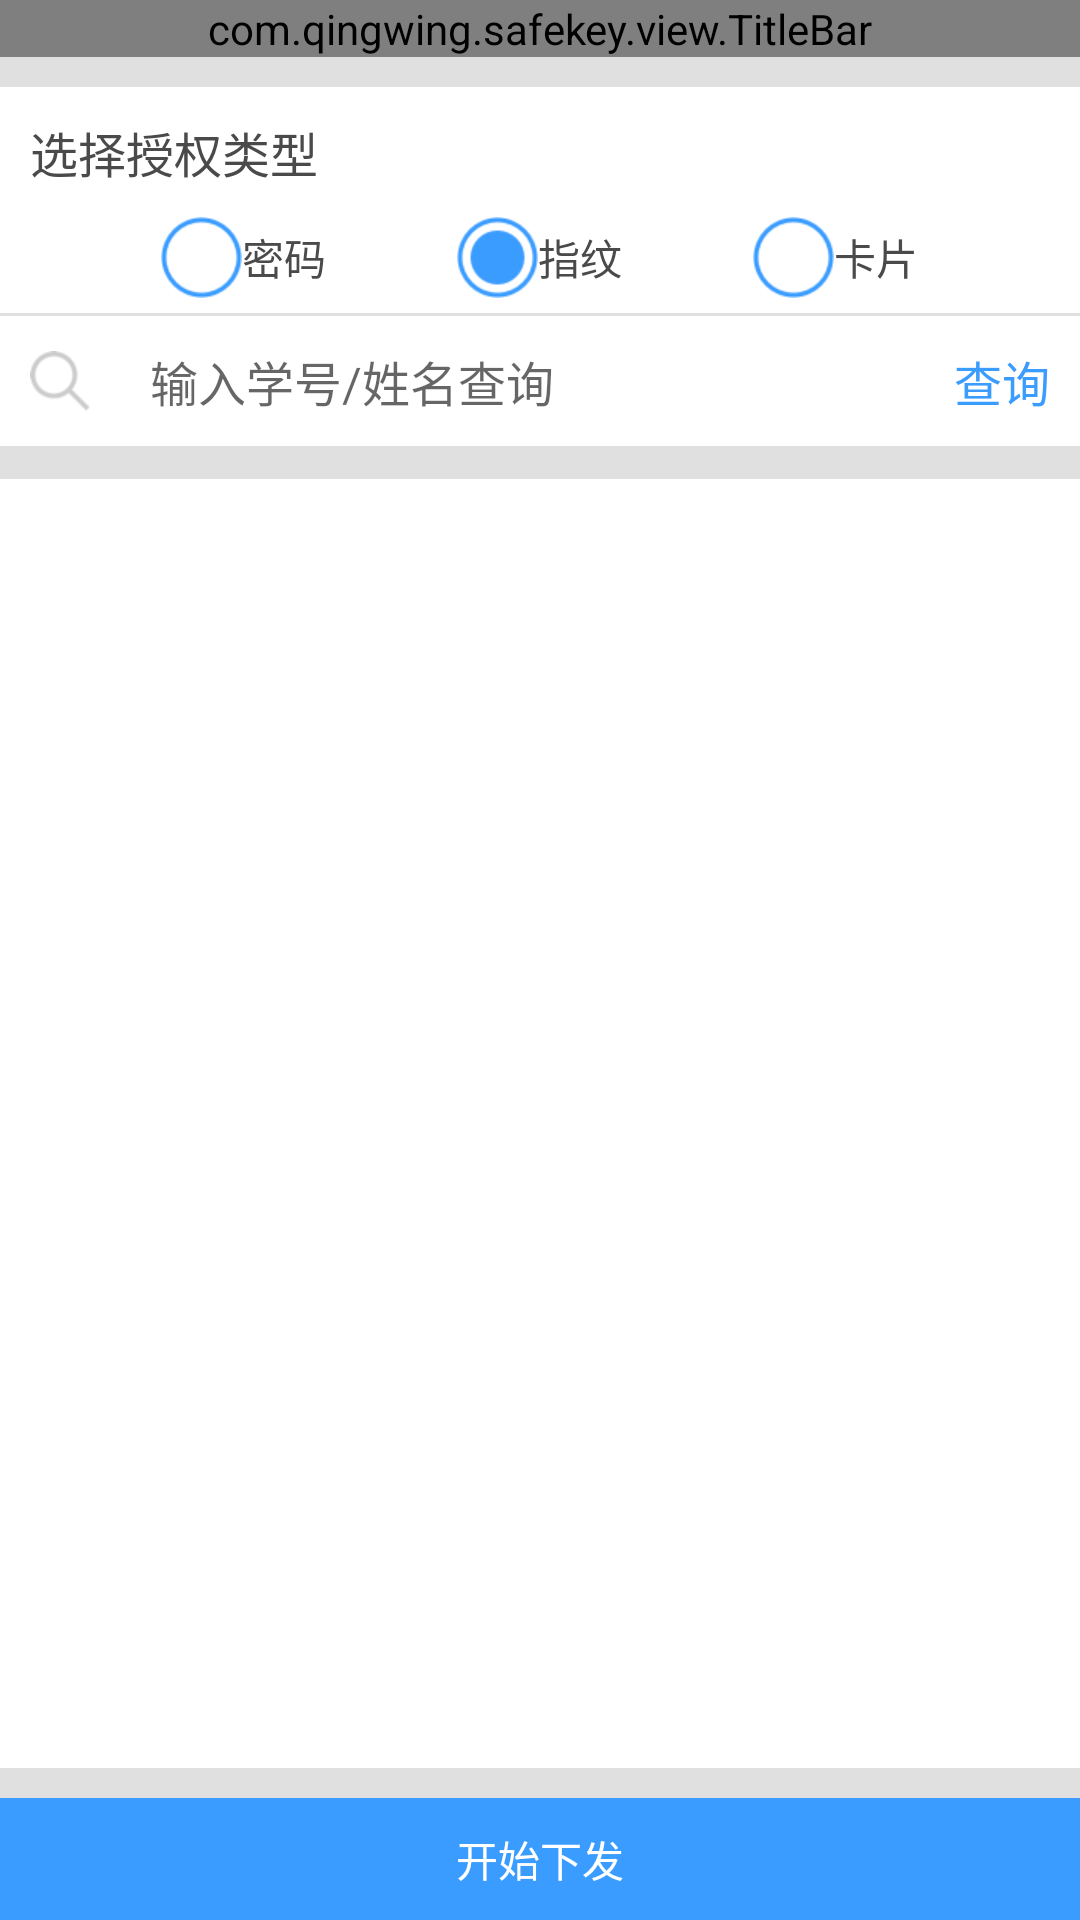

Screen size 1080×1920. Icon name, then its box in pixels as bbox=[x1, y1, x2, y2]:
search: bbox=[30, 351, 89, 410]
